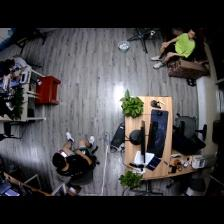normal: (150, 29, 202, 74), (50, 129, 95, 177), (4, 55, 28, 75)
